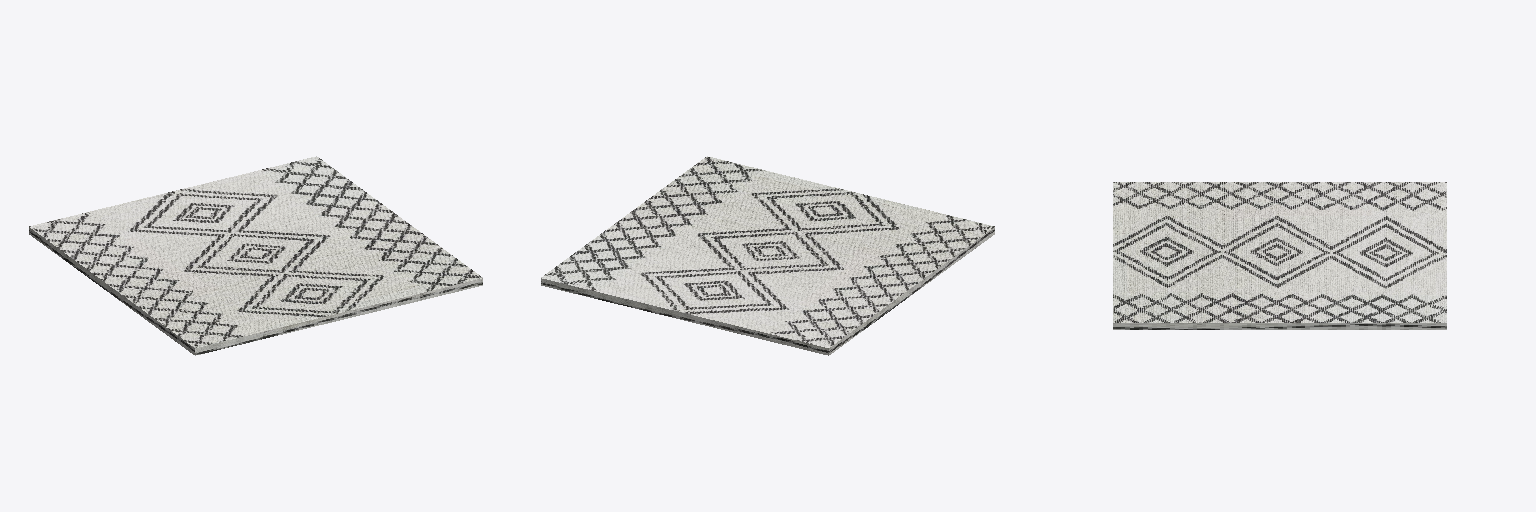
3 views of the same model, side by side, from view 1: azimuth 30°, elevation 25°; view 2: azimuth 150°, elevation 25°; view 3: azimuth 270°, elevation 25° (orthographic).
Visible parts, largest first — view 1: Cube.006_Cube.005; view 2: Cube.006_Cube.005; view 3: Cube.006_Cube.005.
Part boxes in pixels (x1,y1,x2,y2): Cube.006_Cube.005: (29,156,482,355); Cube.006_Cube.005: (541,156,994,355); Cube.006_Cube.005: (1113,182,1446,329).
Bounding box in the file's own units: 11.55 × 0.2848 × 11.55.
1 materials, 1 textured.